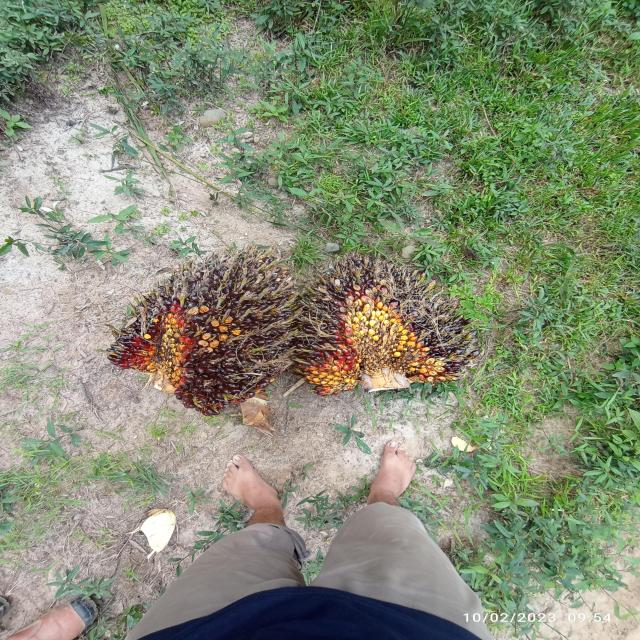fraksi 00: (86, 223, 298, 440), (286, 232, 508, 422)
